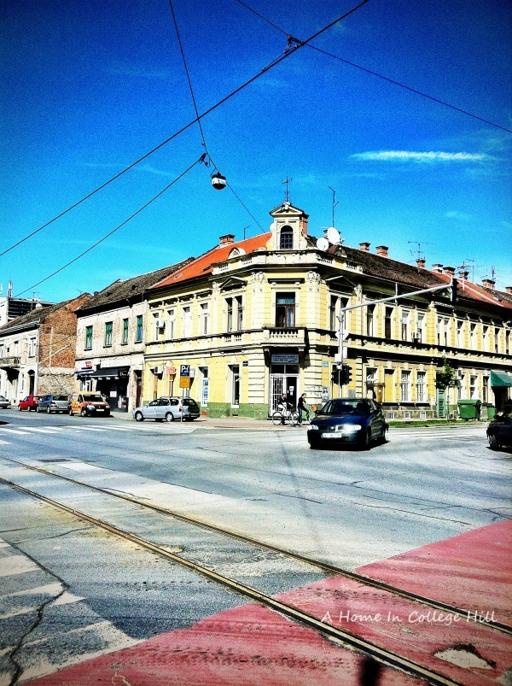non-vehicle: (271, 404, 298, 426), (291, 404, 317, 424)
